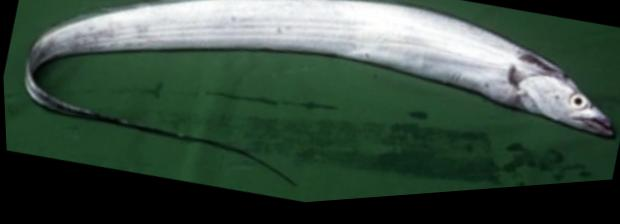fish: (25, 0, 612, 191)
